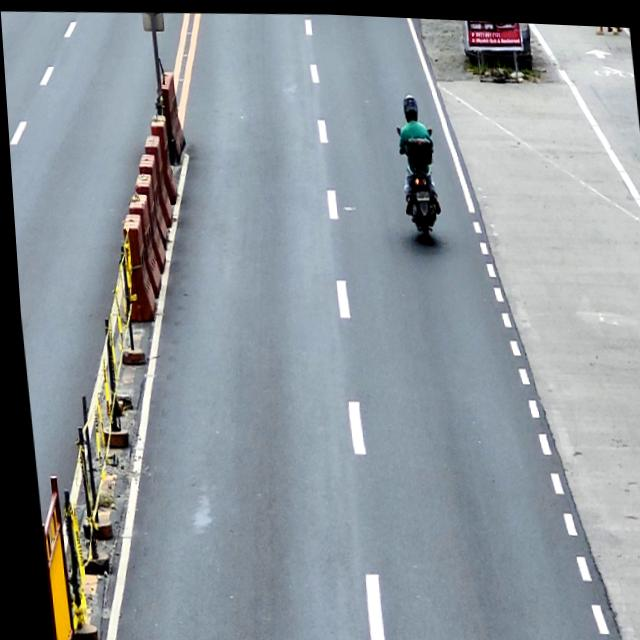License-Plate: (413, 188, 427, 198)
Motorcycle: (394, 120, 441, 239)
